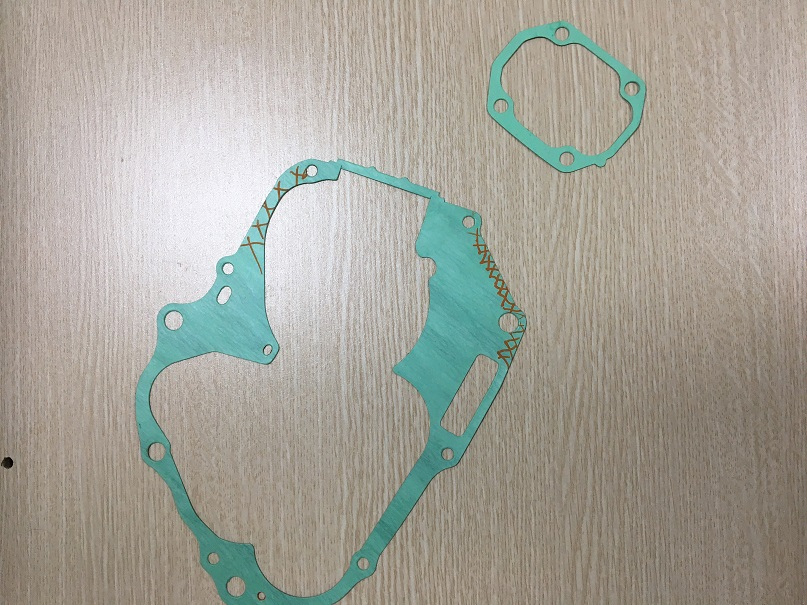type2: (482, 15, 657, 185)
type3: (123, 156, 539, 593)
